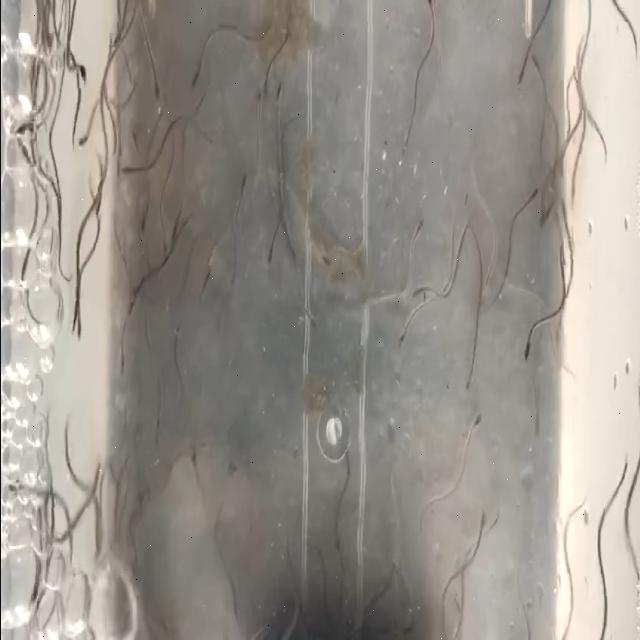active_glass_eel: (136, 74, 166, 120), (230, 168, 252, 228), (12, 244, 32, 304), (10, 112, 36, 154), (464, 408, 494, 442), (182, 54, 205, 96), (520, 325, 537, 380), (471, 504, 493, 545), (516, 48, 528, 123), (410, 210, 432, 250), (298, 294, 318, 338), (388, 316, 412, 352), (22, 562, 40, 610), (38, 486, 56, 534), (460, 362, 480, 401), (528, 156, 540, 218), (564, 171, 582, 212), (313, 247, 335, 279), (528, 28, 538, 98), (68, 302, 82, 352), (134, 204, 154, 237), (282, 230, 298, 271), (77, 281, 86, 349), (255, 77, 268, 121), (401, 280, 424, 304), (263, 234, 279, 268), (90, 522, 106, 556), (73, 61, 91, 88), (122, 132, 139, 160), (74, 128, 88, 162), (90, 462, 100, 503), (424, 0, 438, 28)
